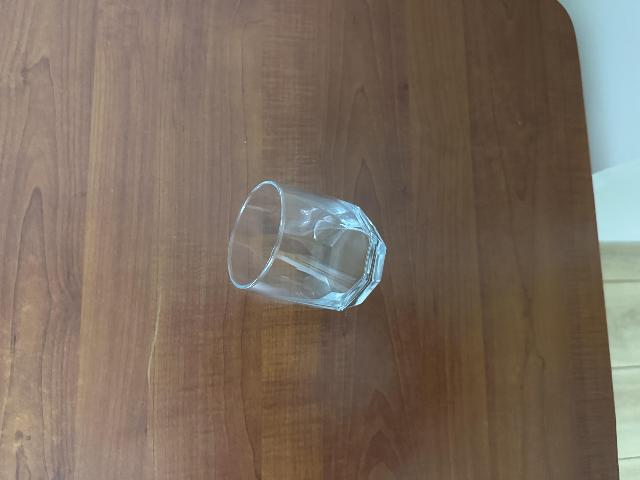Cam: (214, 173, 387, 314)
